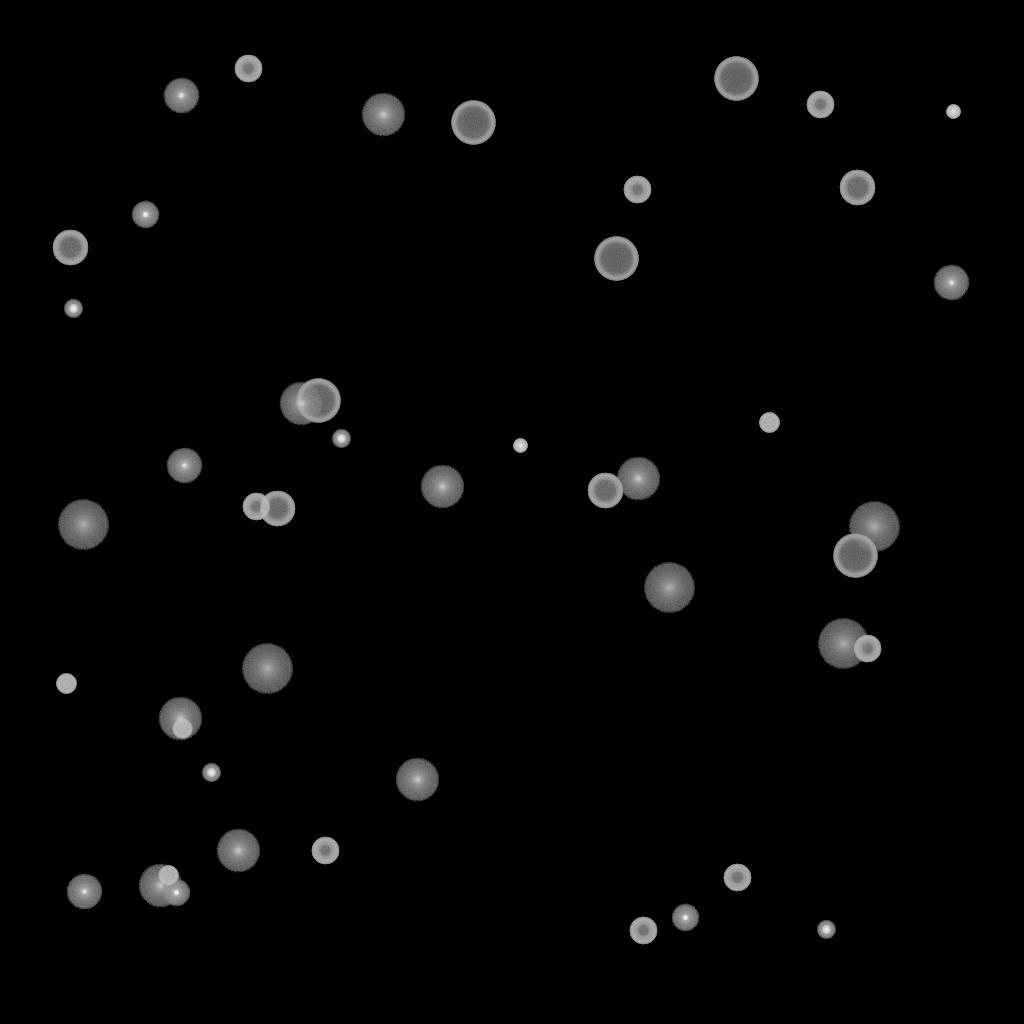depth:-10: (131, 201, 159, 229), (671, 904, 699, 932), (162, 879, 190, 907)
depth:-20: (817, 921, 835, 939), (64, 300, 82, 318), (202, 764, 220, 782), (332, 430, 350, 448)
depth:-30: (513, 439, 527, 453), (946, 105, 960, 119)
depth:-40: (158, 866, 178, 886), (759, 413, 779, 433), (172, 719, 192, 739), (56, 674, 76, 694)
depth:-50: (853, 635, 881, 663), (311, 837, 339, 865), (629, 917, 657, 945), (242, 493, 270, 521), (623, 176, 651, 204), (234, 55, 262, 83), (806, 91, 834, 119), (723, 864, 751, 892)
depth:-60: (587, 473, 623, 509), (259, 491, 295, 527), (839, 170, 875, 206), (52, 230, 88, 266)
depth:-70: (714, 57, 758, 101), (296, 379, 340, 423), (833, 534, 877, 578), (451, 101, 495, 145), (594, 237, 638, 281)
depth:0: (66, 874, 102, 910), (163, 78, 199, 114), (933, 265, 969, 301), (166, 448, 202, 484)
depth:10: (138, 864, 182, 908), (395, 758, 439, 802), (279, 382, 323, 426), (158, 697, 202, 741), (420, 465, 464, 509), (616, 457, 660, 501), (216, 829, 260, 873), (361, 93, 405, 137)
depth:20: (643, 563, 695, 613), (817, 619, 869, 669), (241, 644, 293, 694), (848, 502, 900, 552), (57, 500, 109, 550)
